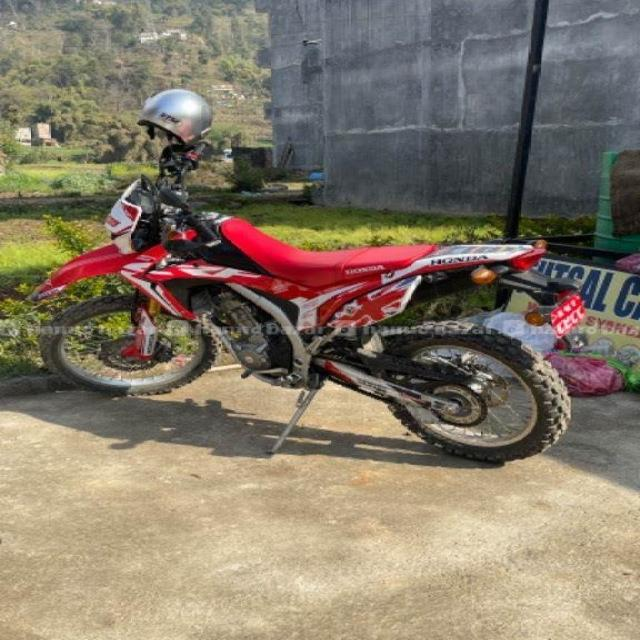License-plate: (546, 287, 584, 340)
